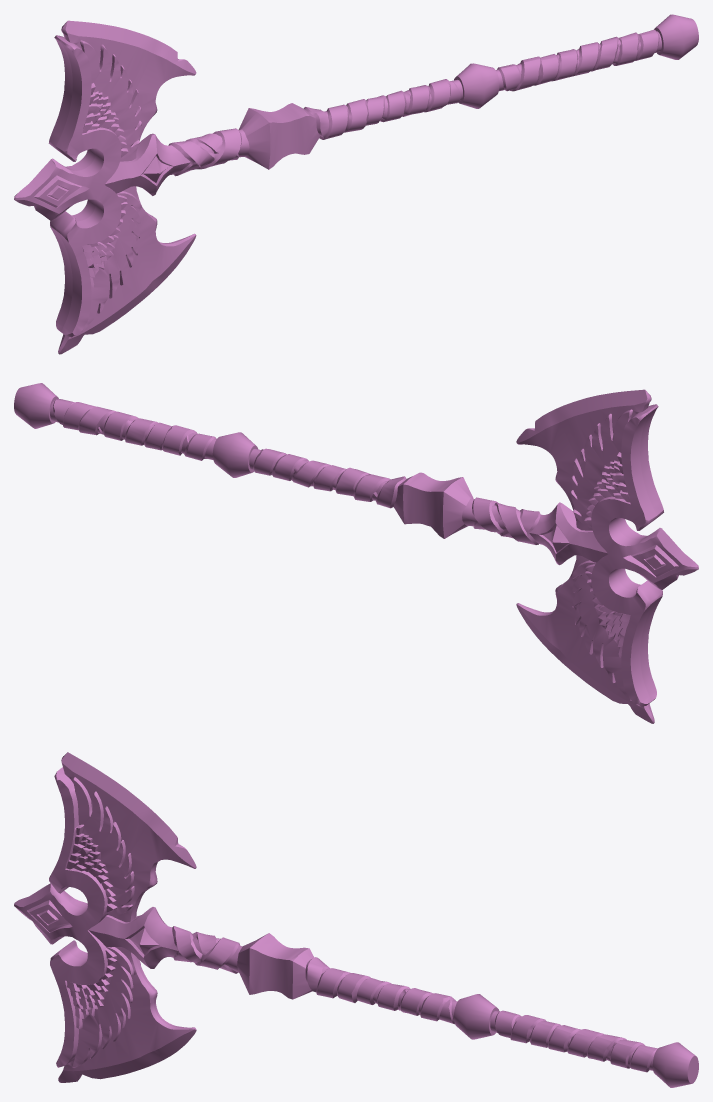
The model's file is SM_Rune_Two_Handed_Poleaxe_2.fbx.
3 views of the same model, one above another, from view 1: azimuth 30°, elevation 25°; view 2: azimuth 150°, elevation 25°; view 3: azimuth 330°, elevation 25° (orthographic).
Parts seen in each view (by area): view 1: SM_Rune_Two_Handed_Poleaxe_2; view 2: SM_Rune_Two_Handed_Poleaxe_2; view 3: SM_Rune_Two_Handed_Poleaxe_2.
Part boxes in pixels (bbox=[...]): SM_Rune_Two_Handed_Poleaxe_2: bbox=[14, 14, 698, 354]; SM_Rune_Two_Handed_Poleaxe_2: bbox=[14, 383, 698, 723]; SM_Rune_Two_Handed_Poleaxe_2: bbox=[14, 752, 698, 1087].
Size of the model in its own units: 1.13 by 0.5289 by 0.0616.
